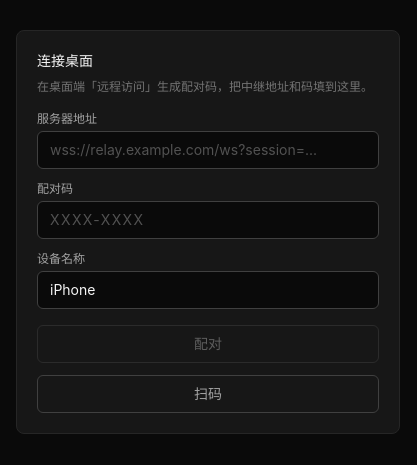
it: PairingScreen QR scan › falls back to manual entry when the camera is unavailable
Click the button "扫码": x=208, y=394 [37,375,379,413]
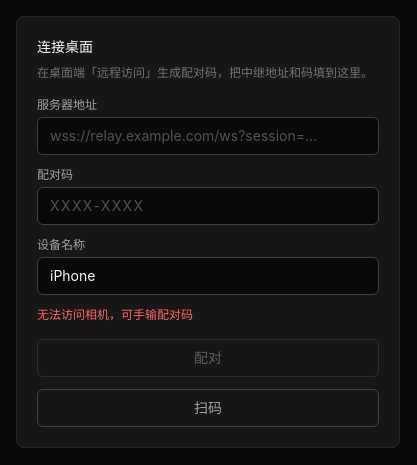
Expected: the field labelled "配对码" is shown, [37,187,379,225]
Result: the message reads "无法访问相机，可手输配对码" at [37,307,193,322]
